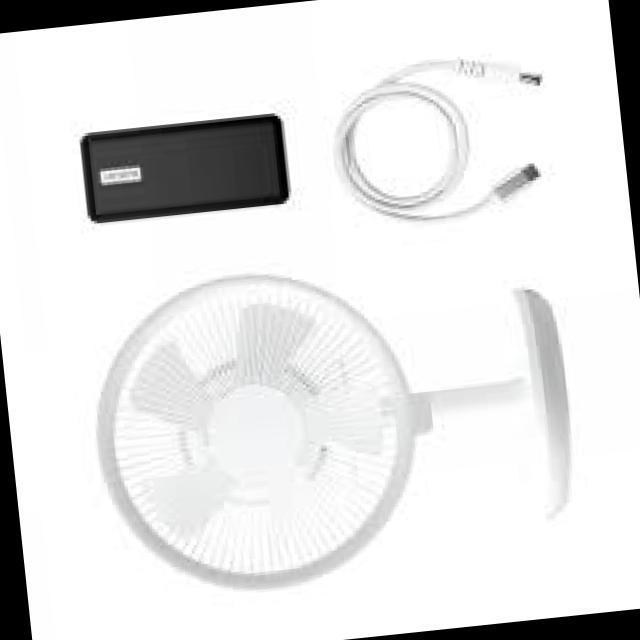power_bank: (73, 106, 294, 228)
